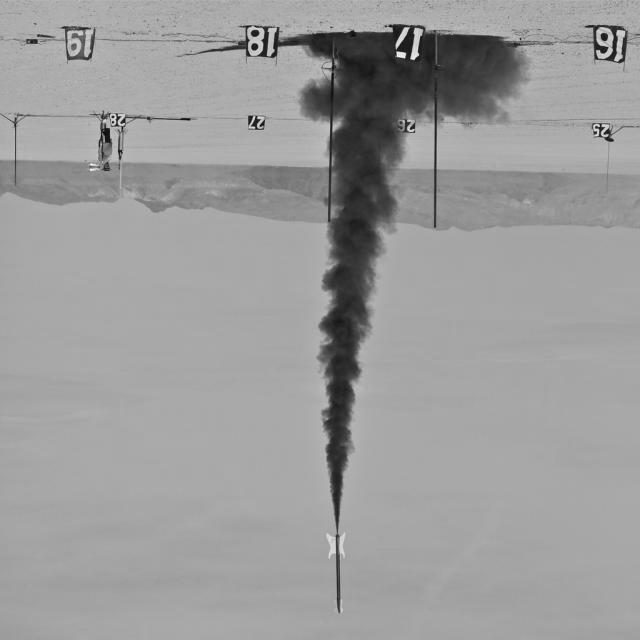missile: (334, 533, 344, 618), (112, 120, 128, 168)
